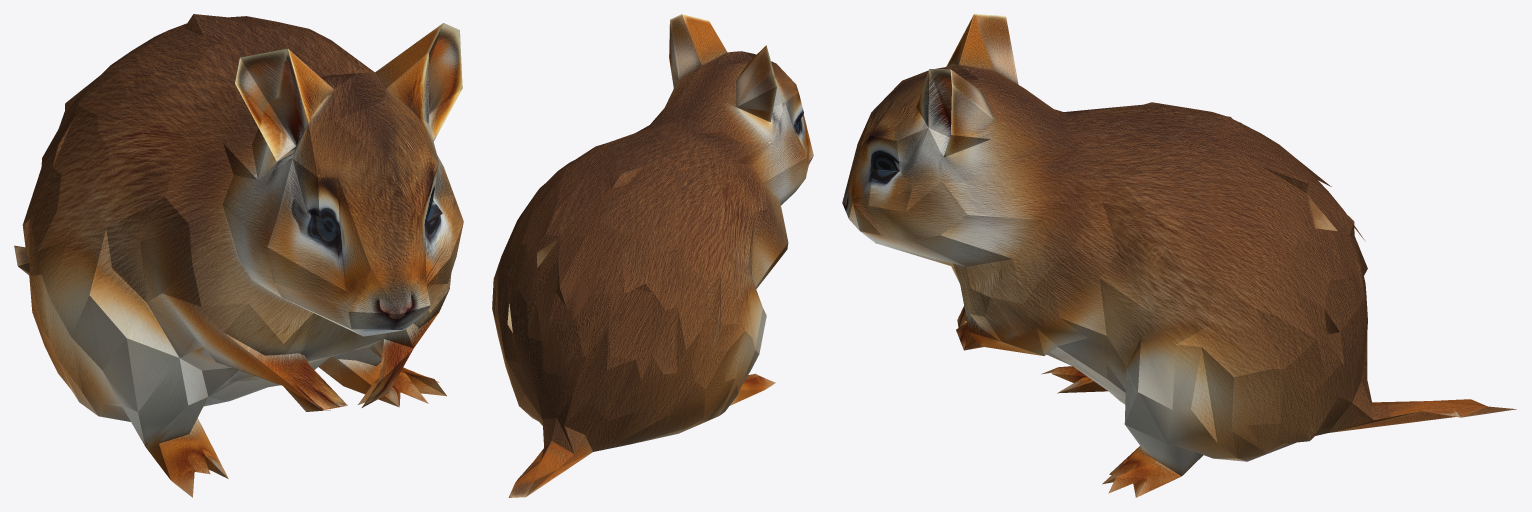
Rendered from pika.glb.
3 renders of one model, left to right at view 1: azimuth 30°, elevation 25°; view 2: azimuth 150°, elevation 25°; view 3: azimuth 270°, elevation 25°, orthographic. The views are drawn at different scales.
Size of the model in its own units: 0.8989 by 1.12 by 1.78.
1 material, 1 textured.
